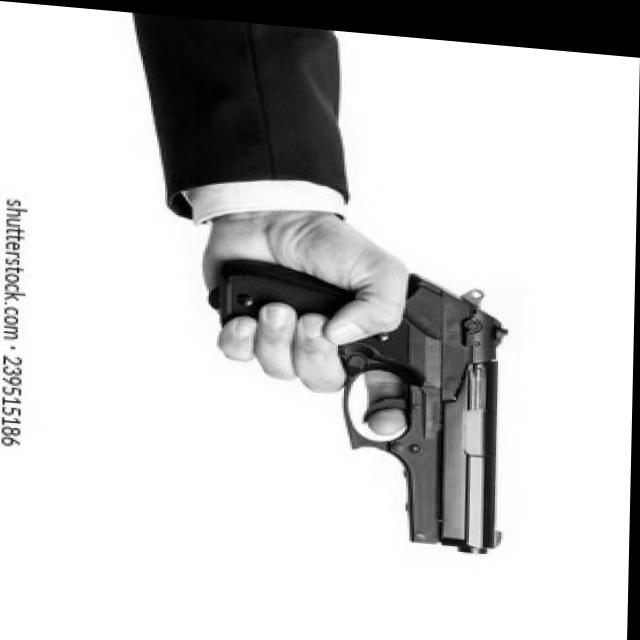handgun: (212, 247, 513, 544)
